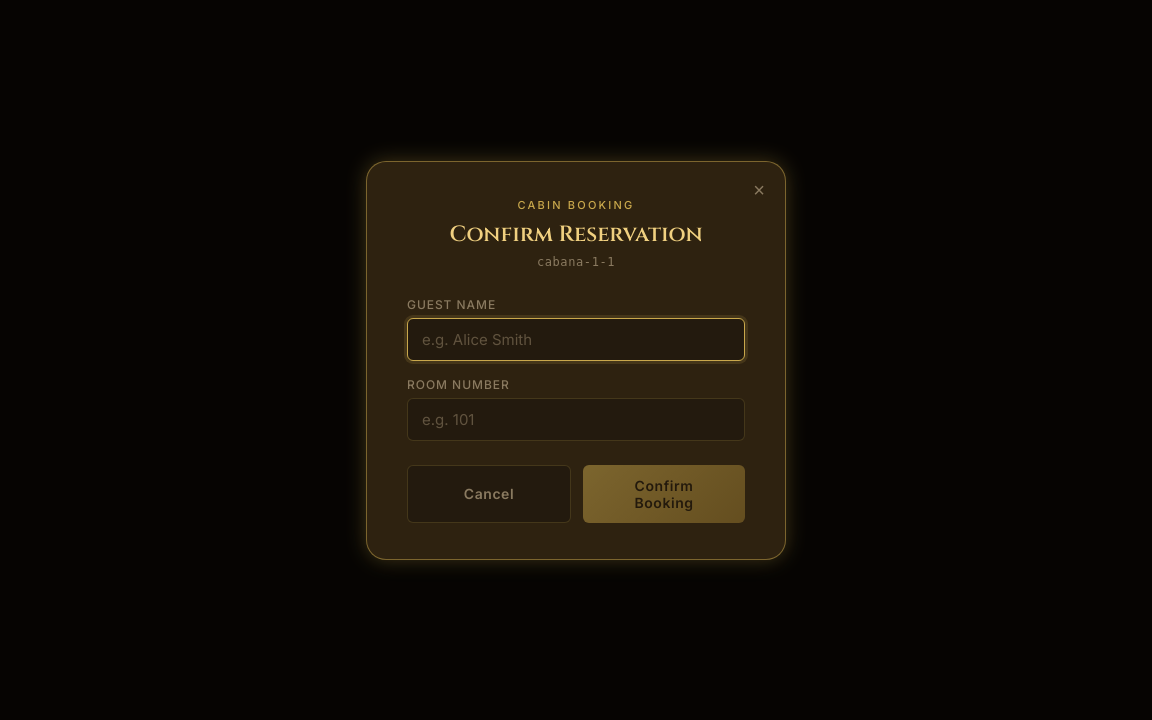
Test: BookingModal › shows a success message on a 201 response
Type "Alice Smith" into the field labelled "Guest Name".
click(576, 339); type("Alice Smith")  # box [407,318,745,360]
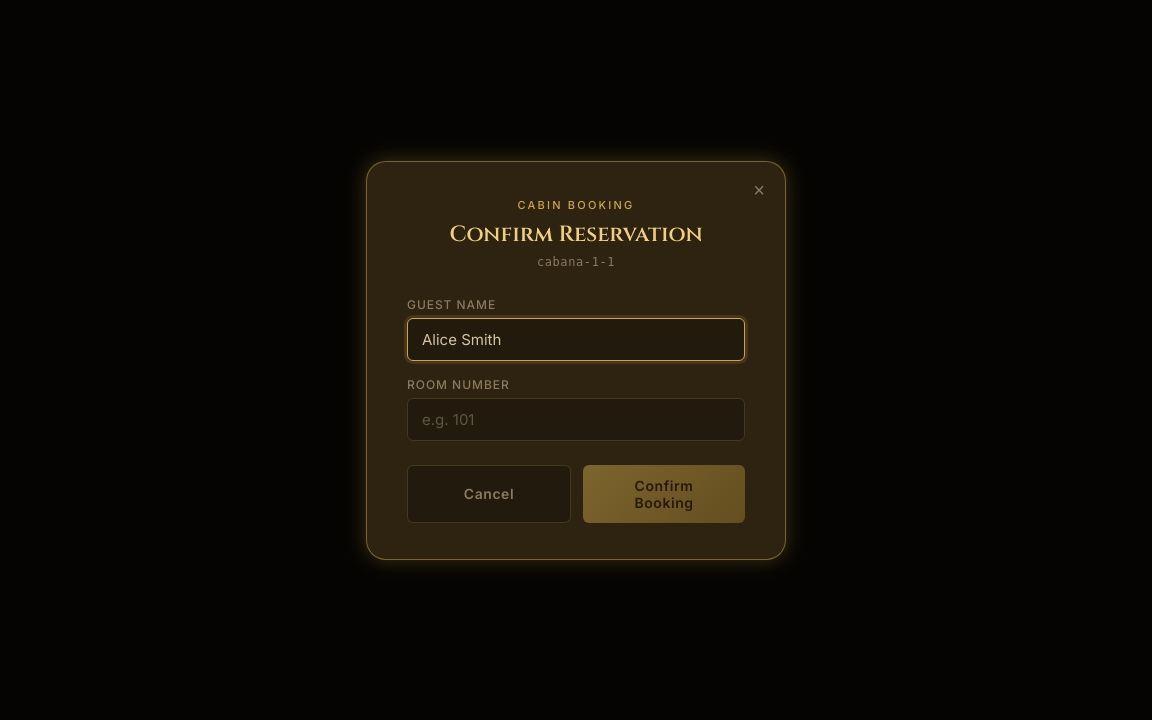
Type "101" into the field labelled "Room Number".
click(576, 419); type("101")  # box [407,398,745,440]
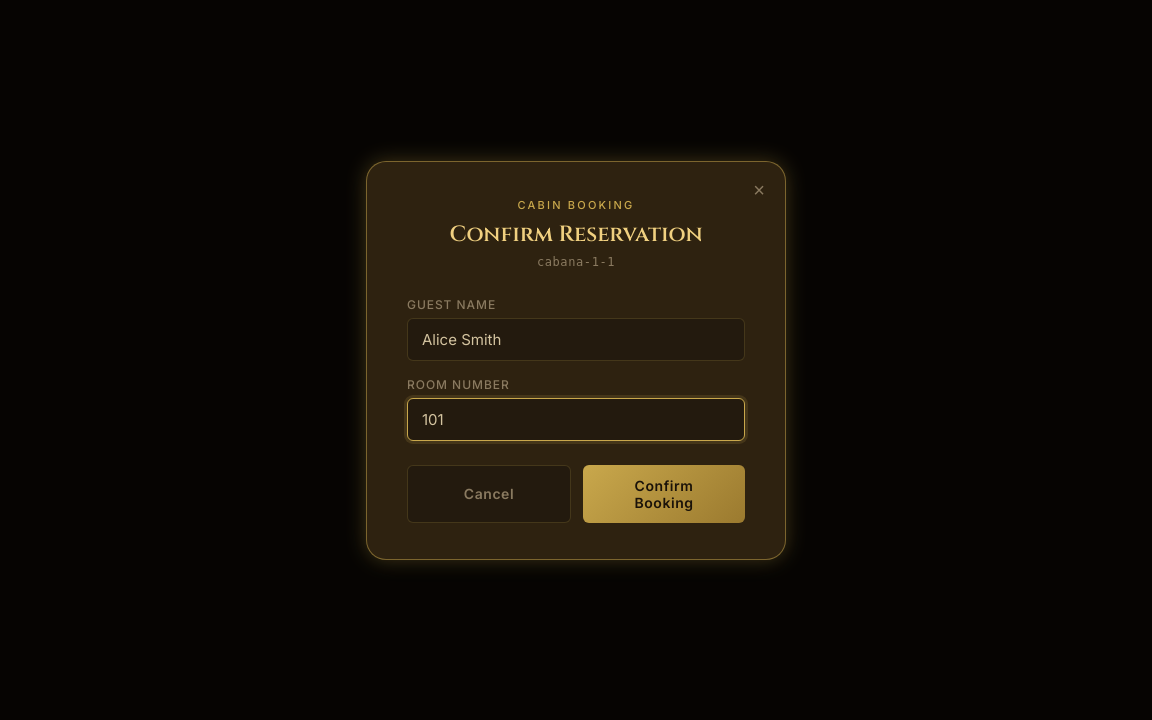
Click the button "Confirm Booking".
click(664, 494)  # box [583,464,745,522]
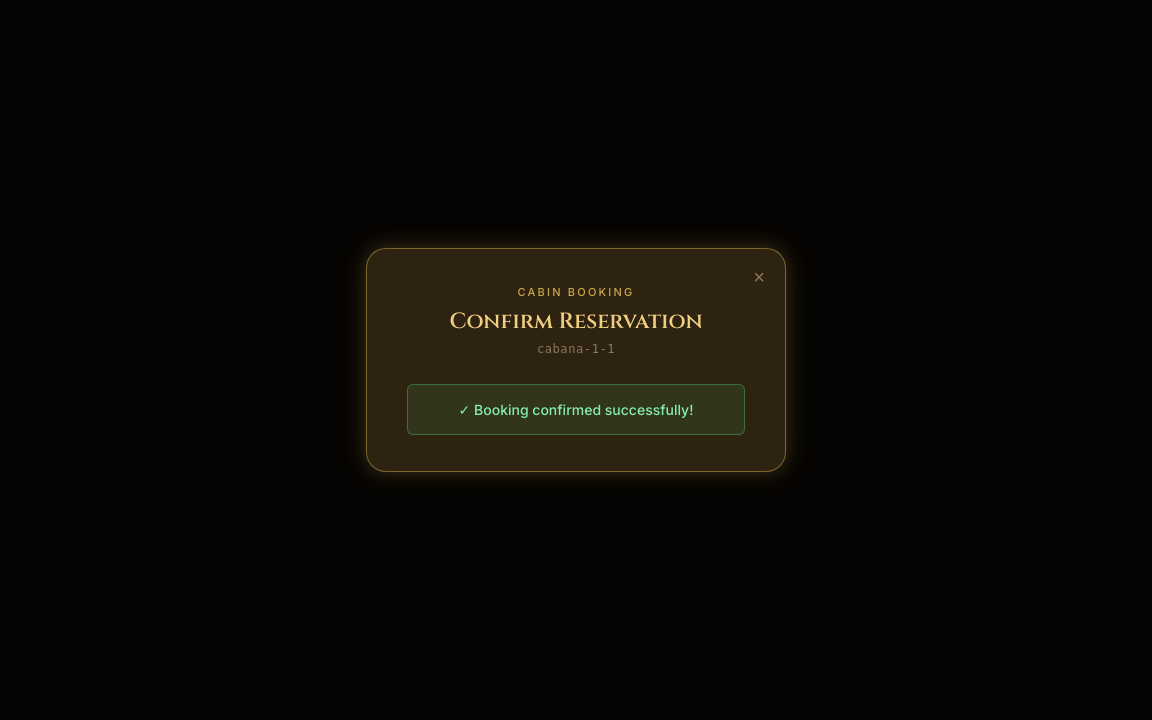
Expected: the text "✓ Booking confirmed successfully!" is shown, [407,384,745,435]
